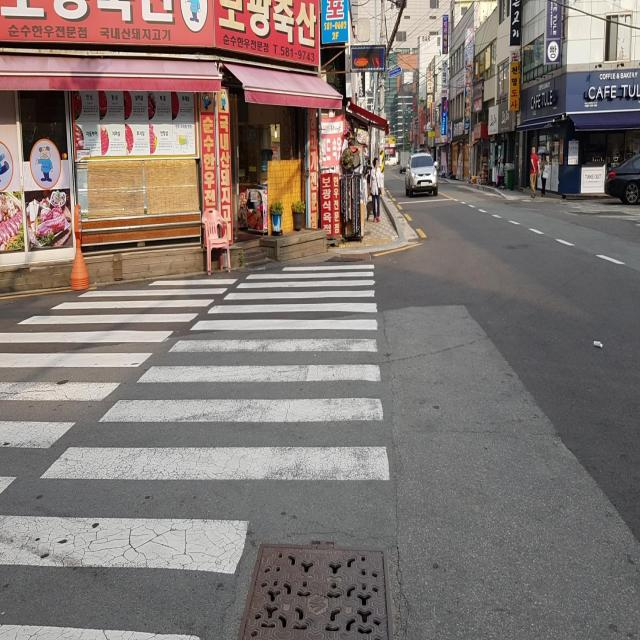횡단보도: (0, 255, 393, 640)
